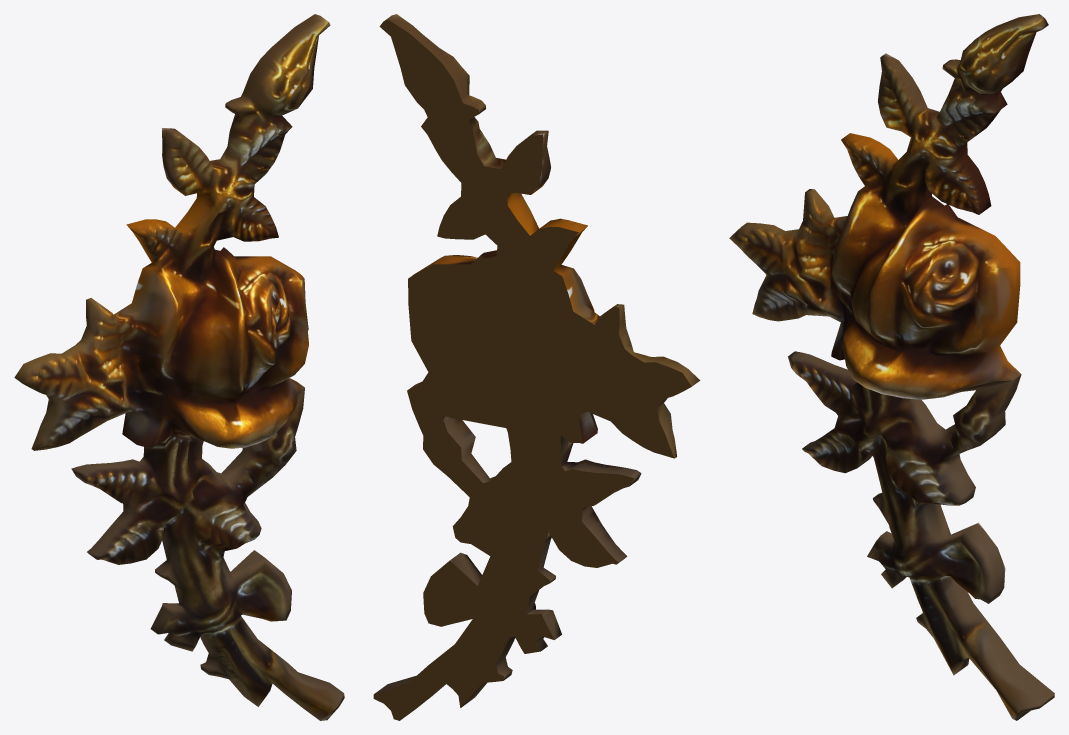
File: Art2653.fbx
3 renders of one model, left to right at view 1: azimuth 30°, elevation 25°; view 2: azimuth 150°, elevation 25°; view 3: azimuth 330°, elevation 25°, orthographic.
Visible parts, largest first — view 1: Mesh_2; view 2: Mesh_2; view 3: Mesh_2.
Boxes of the visible parts, x1,y1,x2,y2 form: Mesh_2: [14, 14, 344, 720]; Mesh_2: [373, 14, 700, 720]; Mesh_2: [729, 14, 1054, 720].
Size of the model in its own units: 9.88 by 20.69 by 2.57.
Materials: 1 (1 with a texture image).
